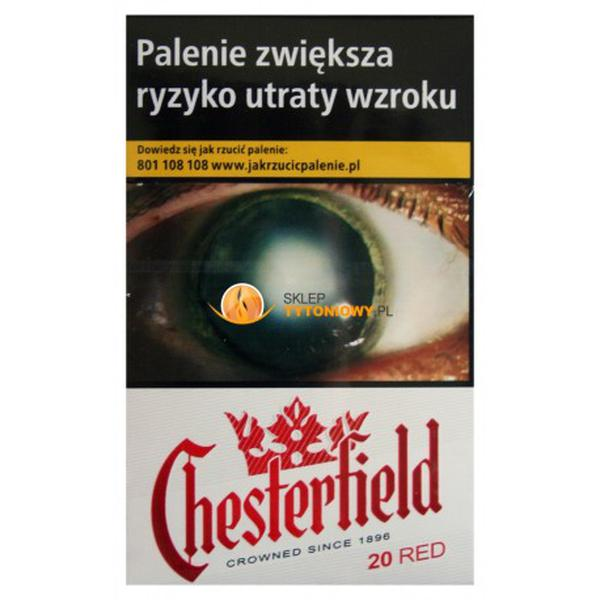chesterfield_red: (127, 16, 470, 582)
